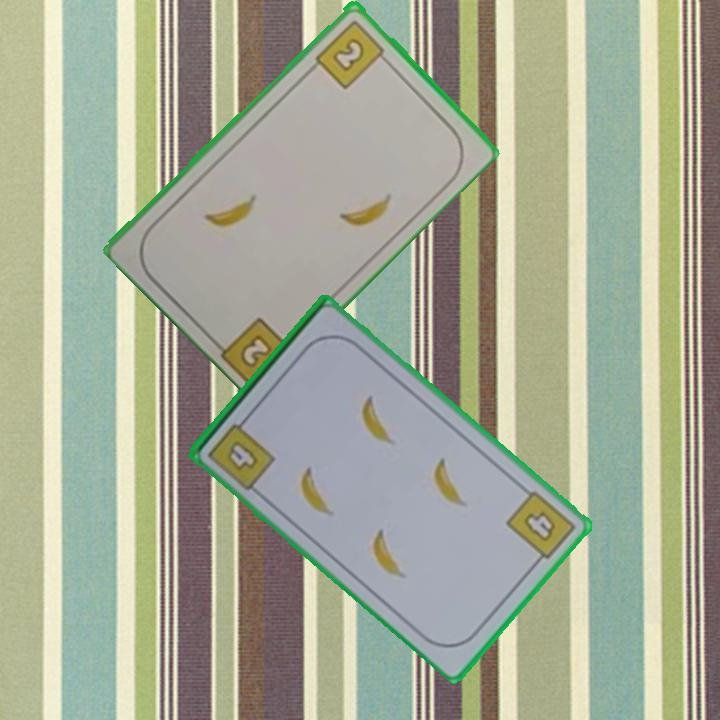2b: (312, 15, 392, 91), (236, 330, 276, 370)
4b: (503, 487, 579, 569), (204, 411, 279, 494)
